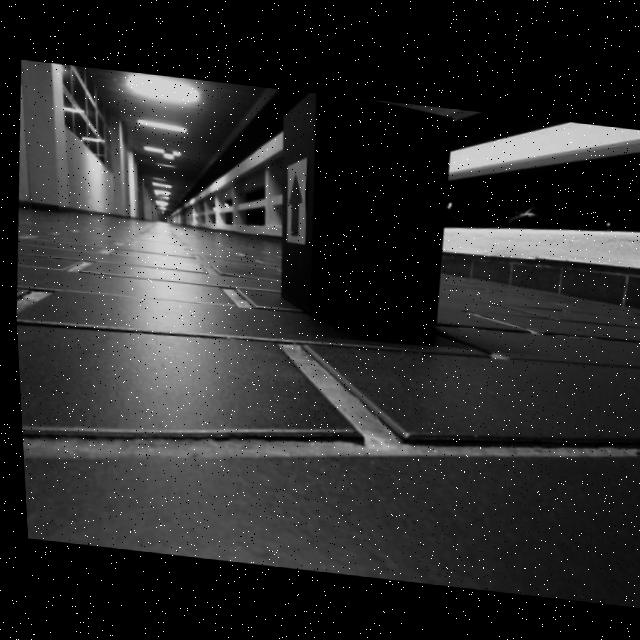UP: (286, 169, 301, 234)
